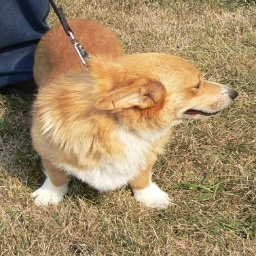dog: (30, 12, 237, 213)
